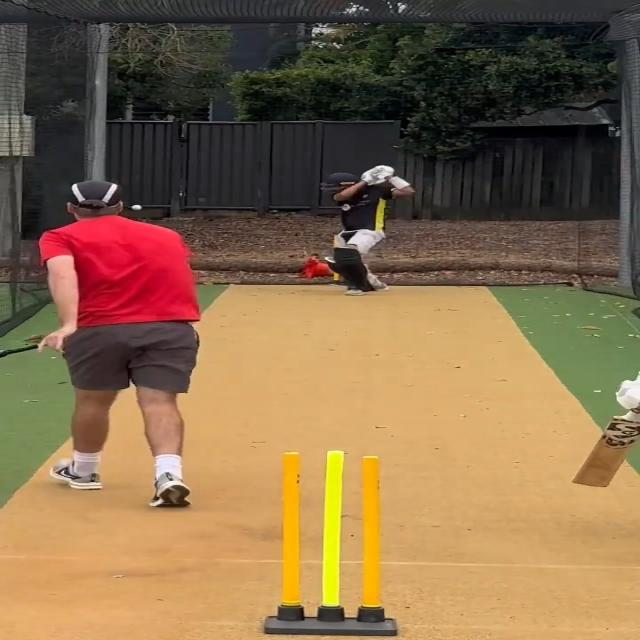ball: (131, 204, 142, 211)
stump: (260, 448, 400, 637)
